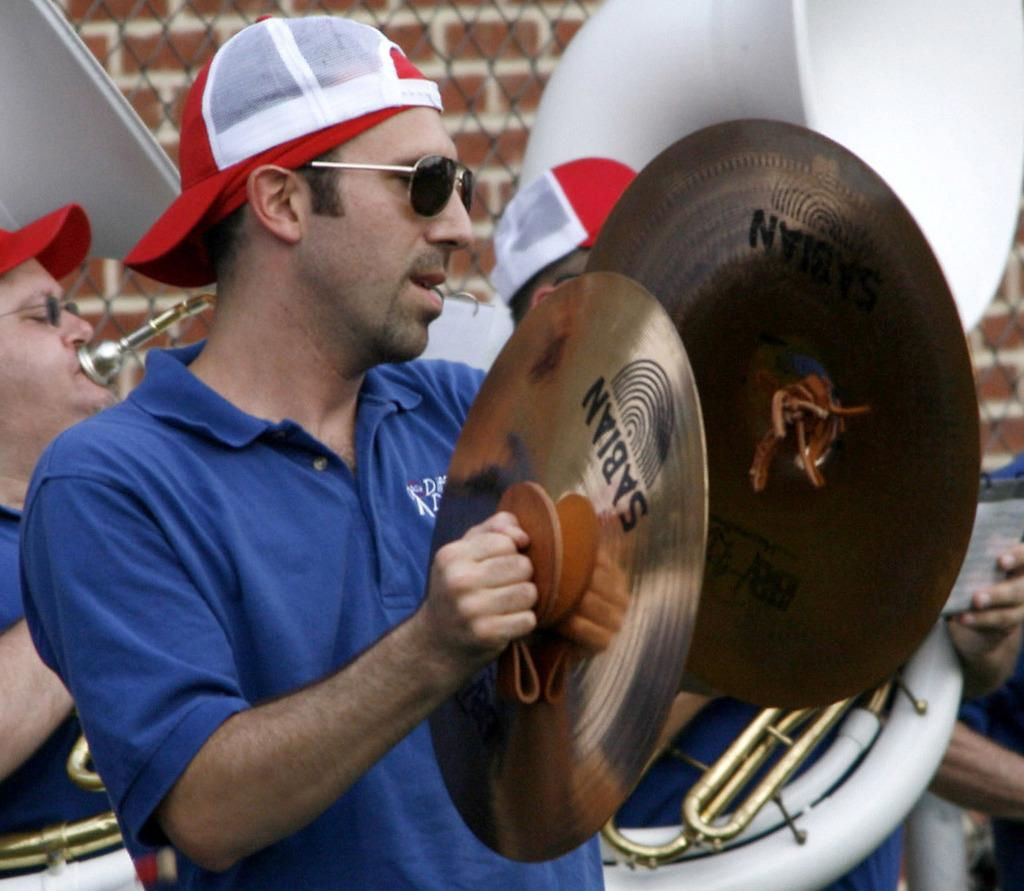Hat: (118, 20, 444, 291), (0, 204, 95, 278)
